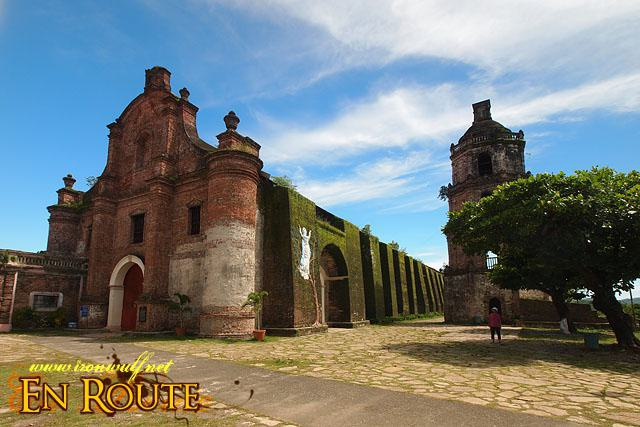santa_maria_church_santa_maria_ilocos_sur: (45, 59, 260, 344)
unfinished_paint: (161, 217, 263, 318)
water_damage_or_mold: (287, 194, 314, 222), (299, 278, 315, 314), (319, 228, 344, 249), (347, 224, 361, 255), (370, 239, 380, 281), (387, 249, 395, 284), (399, 254, 406, 288)
